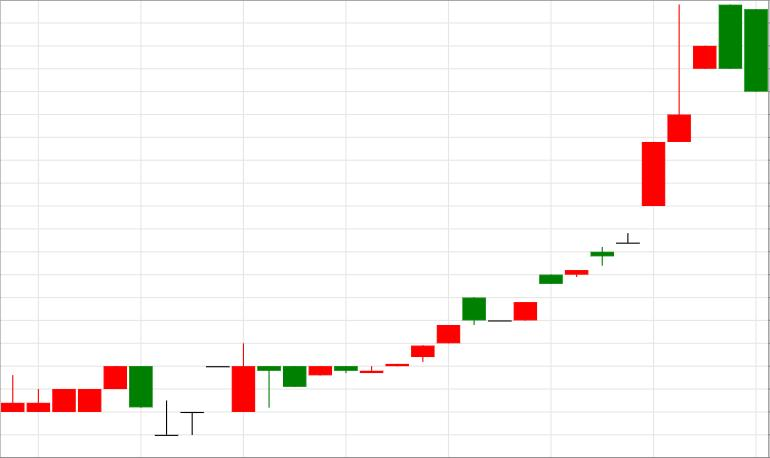shooting_star_fall: (514, 4, 691, 321)
